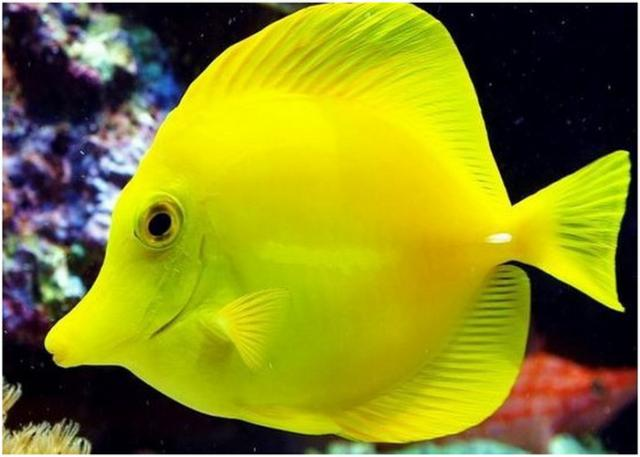Mulut: (20, 308, 116, 392)
Sirip Anal: (330, 253, 536, 447)
Sirip Dada: (197, 281, 317, 387)
Sirip Ekor: (508, 142, 638, 322)
Sirip Perut: (234, 391, 372, 457)
Sirip Punggung: (179, 7, 523, 212)
